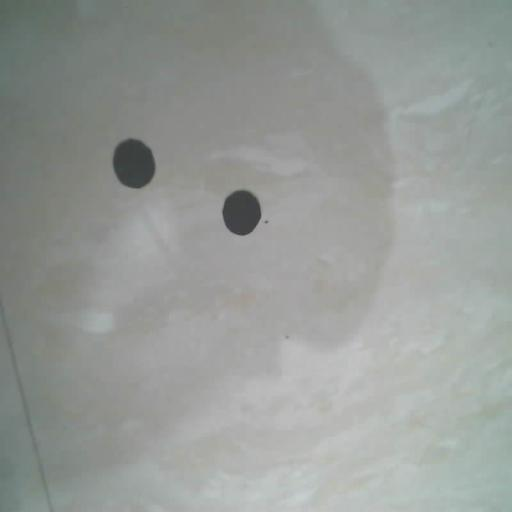pothole: (112, 138, 156, 190), (222, 189, 262, 237)
